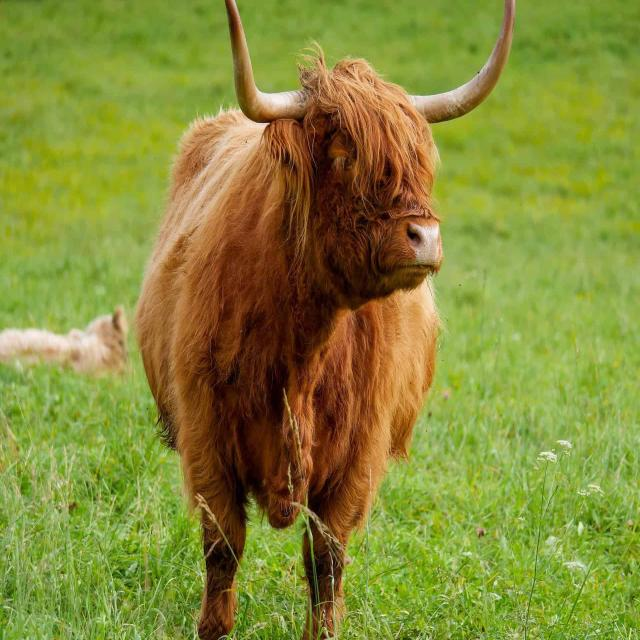Ox: (136, 5, 524, 631)
